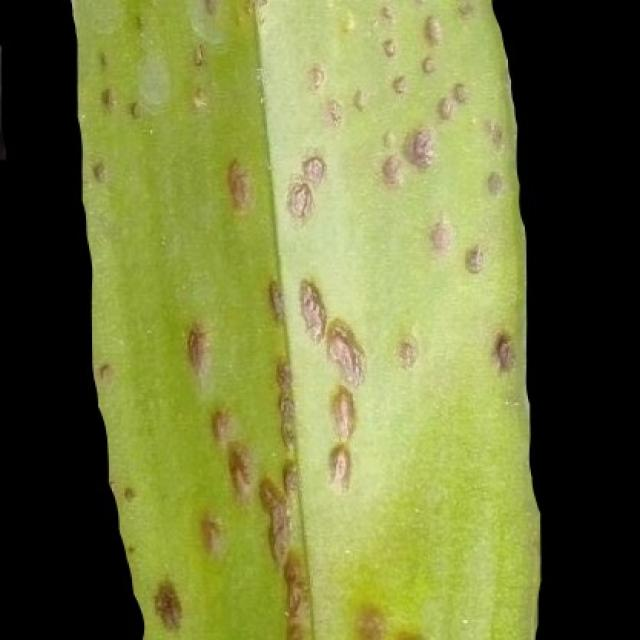mite: (407, 126, 434, 169), (284, 180, 313, 219), (301, 152, 327, 183), (378, 153, 402, 186), (462, 242, 483, 273), (483, 169, 503, 196), (388, 628, 425, 638)
spots: (61, 0, 543, 638)
